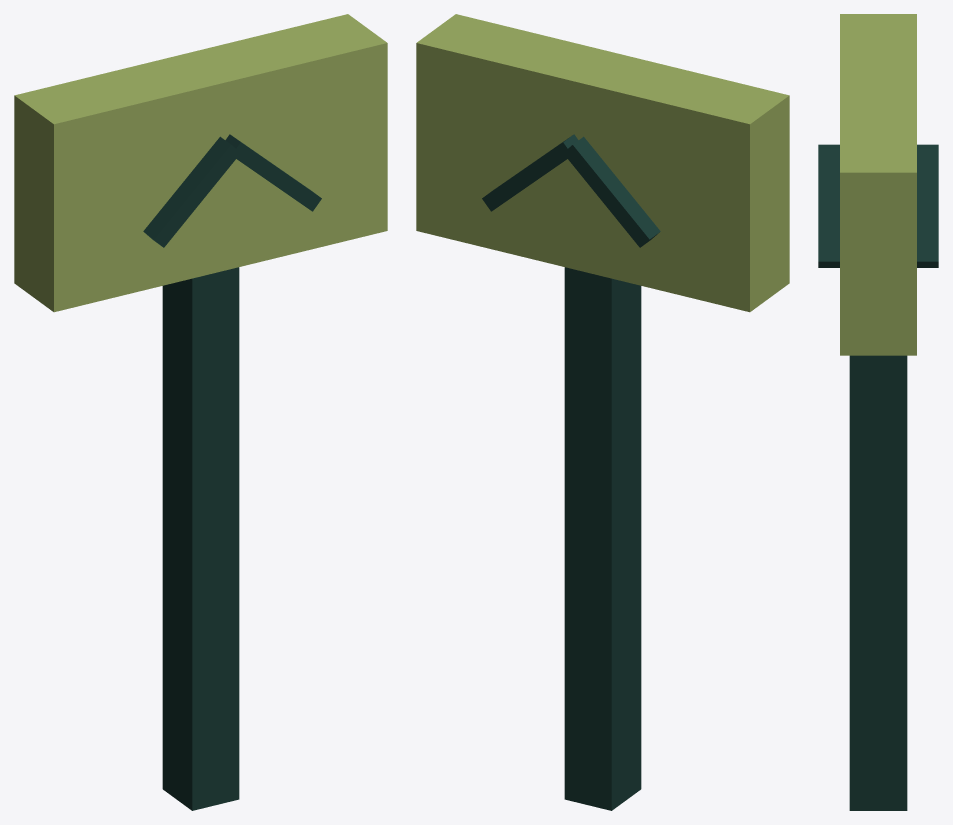
The model's file is trail-post.glb.
3 renders of one model, left to right at view 1: azimuth 30°, elevation 25°; view 2: azimuth 150°, elevation 25°; view 3: azimuth 270°, elevation 25°, orthographic. The views are drawn at different scales.
Visible parts, largest first — view 1: trail-post; view 2: trail-post; view 3: trail-post.
Part boxes in pixels (x1=…): trail-post: x1=14, y1=14, x2=387, y2=810; trail-post: x1=416, y1=14, x2=789, y2=810; trail-post: x1=818, y1=14, x2=938, y2=810.
Size of the model in its own units: 0.78 by 1.62 by 0.25.
